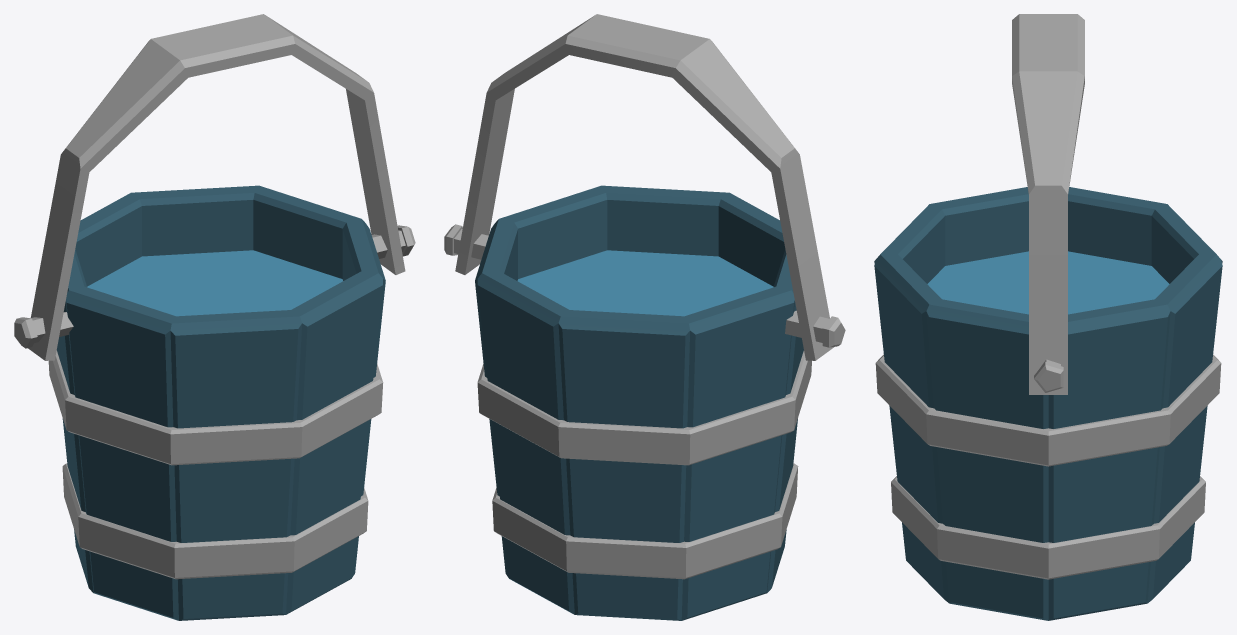
Rendered from bucket_a004.glb.
3 views of the same model, side by side, from view 1: azimuth 30°, elevation 25°; view 2: azimuth 150°, elevation 25°; view 3: azimuth 270°, elevation 25° (orthographic).
Visible parts, largest first — view 1: bucket_a004; view 2: bucket_a004; view 3: bucket_a004.
Boxes of the visible parts, x1,y1,x2,y2 form: bucket_a004: (14, 14, 415, 620); bucket_a004: (444, 14, 845, 620); bucket_a004: (874, 14, 1222, 620).
Size of the model in its own units: 0.3482 by 0.4489 by 0.2707.
Materials: 1 (1 with a texture image).
